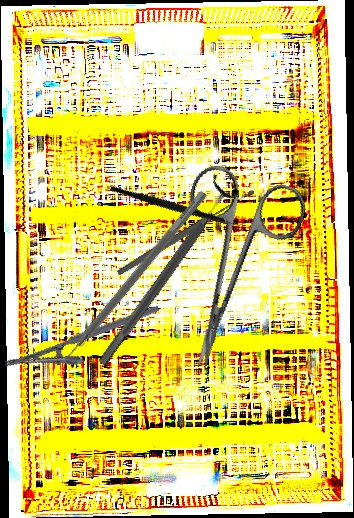Chopper: (109, 143, 251, 268)
Fixation Ring: (87, 173, 243, 374)
Iris Scissors: (142, 159, 311, 384)
Needle Holder: (3, 304, 168, 389)
Spatula Surgical: (48, 184, 208, 375)
Surgical Spoon: (115, 187, 257, 278)
